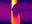Hotspot: (11, 0, 16, 9)
